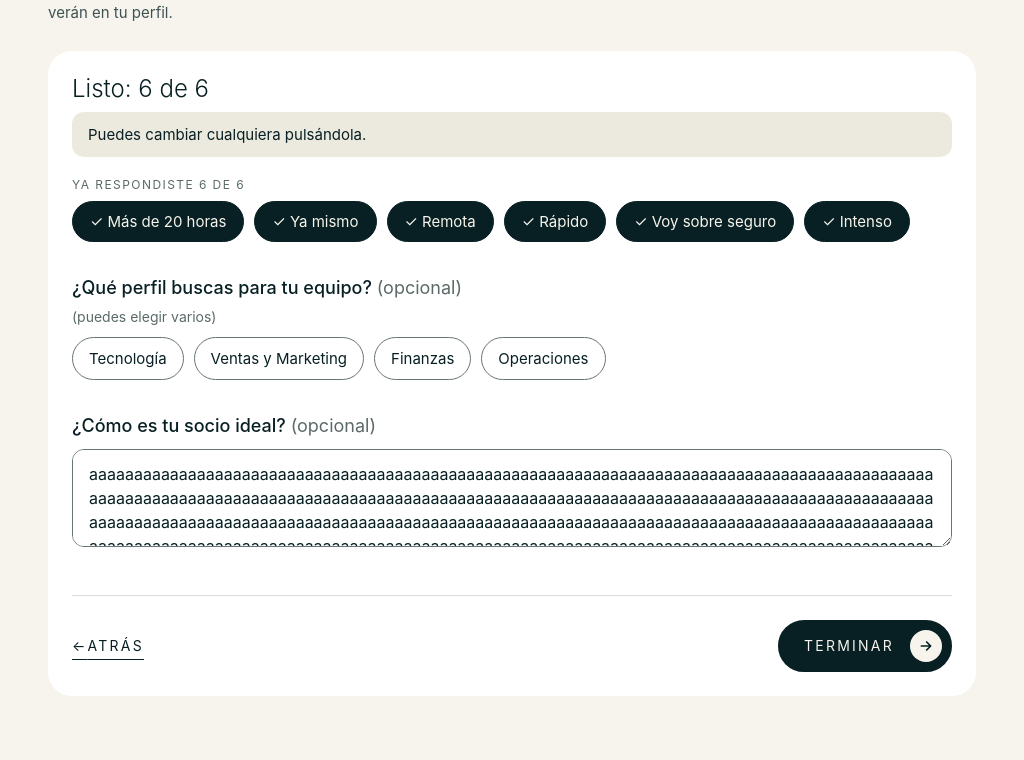
FormaView › un texto de socio demasiado largo no se guarda, avisa y lleva al final
This screenshot has width=1024, height=760.
(page scrolled)
Click the button "Terminar".
click(865, 646)  # box left=778, top=620, right=952, bottom=672
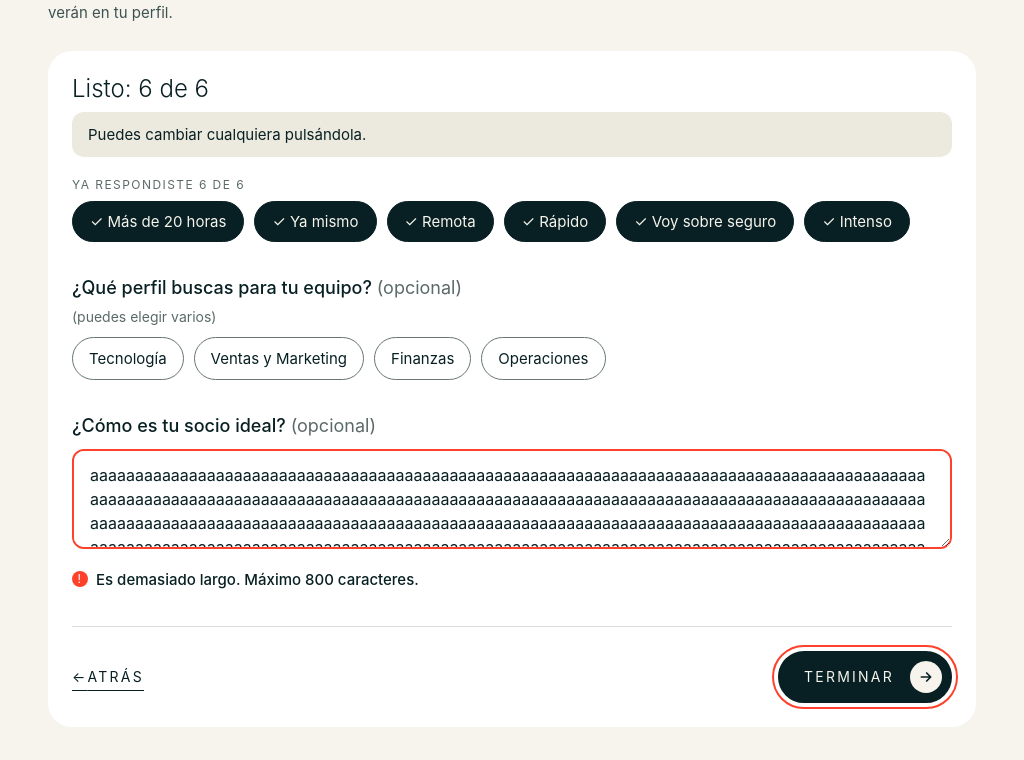
Check: the text "Es demasiado largo. Máximo 800 caracteres." is shown, box left=96, top=569, right=419, bottom=590
